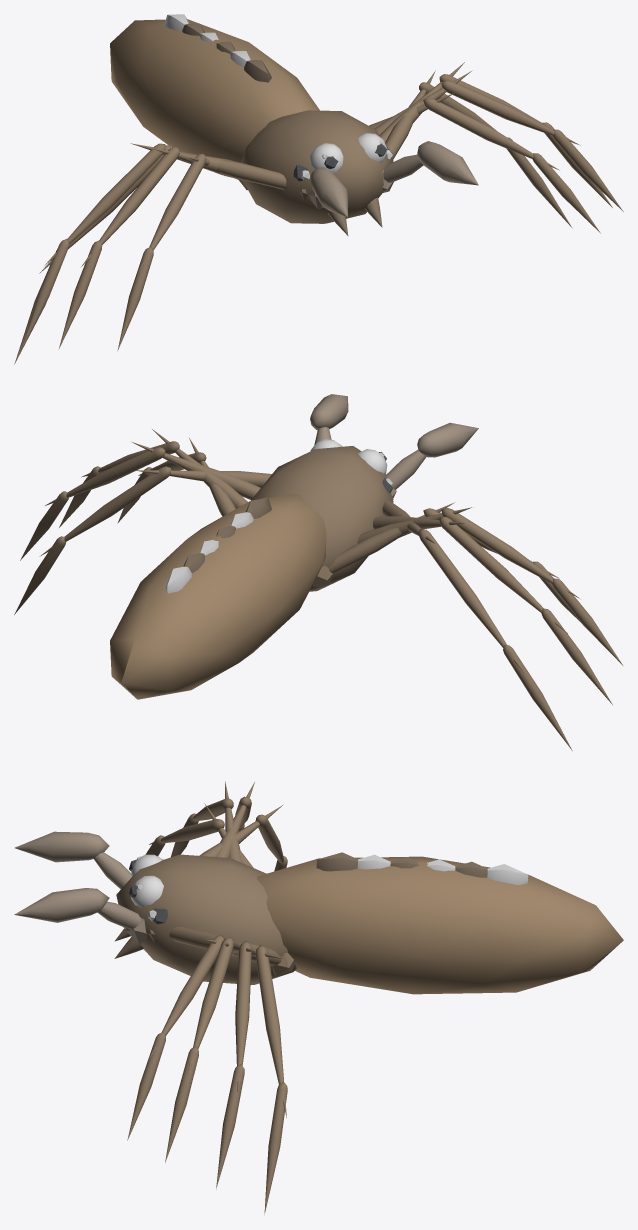
File: scytodes-pallida.glb
The picture shows the model from 3 angles, top to bottom: view 1: azimuth 30°, elevation 25°; view 2: azimuth 150°, elevation 25°; view 3: azimuth 270°, elevation 25°; orthographic projection. The views are drawn at different scales.
Visible parts, largest first — view 1: abdomen, cephalothorax, leg1-r0, leg2-l0, leg2-r0, leg3-l0, leg3-r0, leg0-l0, leg0-r0, palp-l1, leg1-l0, palp-r1 (+3 smaller); view 2: abdomen, cephalothorax, leg1-r0, leg0-r0, leg0-l0, leg2-r0, leg1-l0, leg3-r0, leg2-l0, palp-r1, leg3-l0, palp-l1 (+1 smaller); view 3: abdomen, cephalothorax, leg0-l0, leg1-l0, leg3-l0, leg2-l0, palp-l1, palp-r1, leg2-r0, leg3-r0, leg0-r0, eye0-l (+3 smaller).
Part boxes in pixels (box(x1,y1,x2,y2)): abdomen: box(110, 14, 319, 179); cephalothorax: box(238, 110, 393, 223); leg1-r0: box(20, 143, 236, 352); leg2-l0: box(375, 70, 623, 211); leg2-r0: box(58, 147, 222, 349); leg3-l0: box(369, 93, 600, 233); leg3-r0: box(117, 153, 241, 350); leg0-l0: box(385, 70, 572, 228); leg0-r0: box(14, 145, 286, 364); palp-l1: box(417, 141, 478, 185); leg1-l0: box(379, 62, 612, 207); palp-r1: box(310, 167, 348, 217); abdomen: box(110, 493, 326, 699); cephalothorax: box(251, 446, 396, 591); leg1-r0: box(372, 516, 612, 704); leg0-r0: box(382, 500, 572, 750); leg0-l0: box(14, 466, 271, 614); leg2-r0: box(357, 507, 622, 665); leg1-l0: box(20, 441, 260, 560); leg3-r0: box(328, 502, 580, 622); leg2-l0: box(59, 429, 247, 527); palp-r1: box(417, 422, 478, 457); leg3-l0: box(117, 438, 235, 523); palp-l1: box(310, 394, 348, 430); abdomen: box(257, 852, 623, 994); cephalothorax: box(116, 854, 296, 984); leg0-l0: box(169, 927, 287, 1213); leg1-l0: box(216, 934, 254, 1189); leg3-l0: box(127, 935, 281, 1140); leg2-l0: box(165, 937, 241, 1162); palp-l1: box(14, 888, 109, 922); palp-r1: box(14, 831, 109, 862); leg2-r0: box(171, 781, 241, 862); leg3-r0: box(145, 803, 253, 867); leg0-r0: box(199, 805, 287, 871); eye0-l: box(129, 875, 163, 907).
Size of the model in its own units: 0.6892 by 0.2317 by 0.5871.
